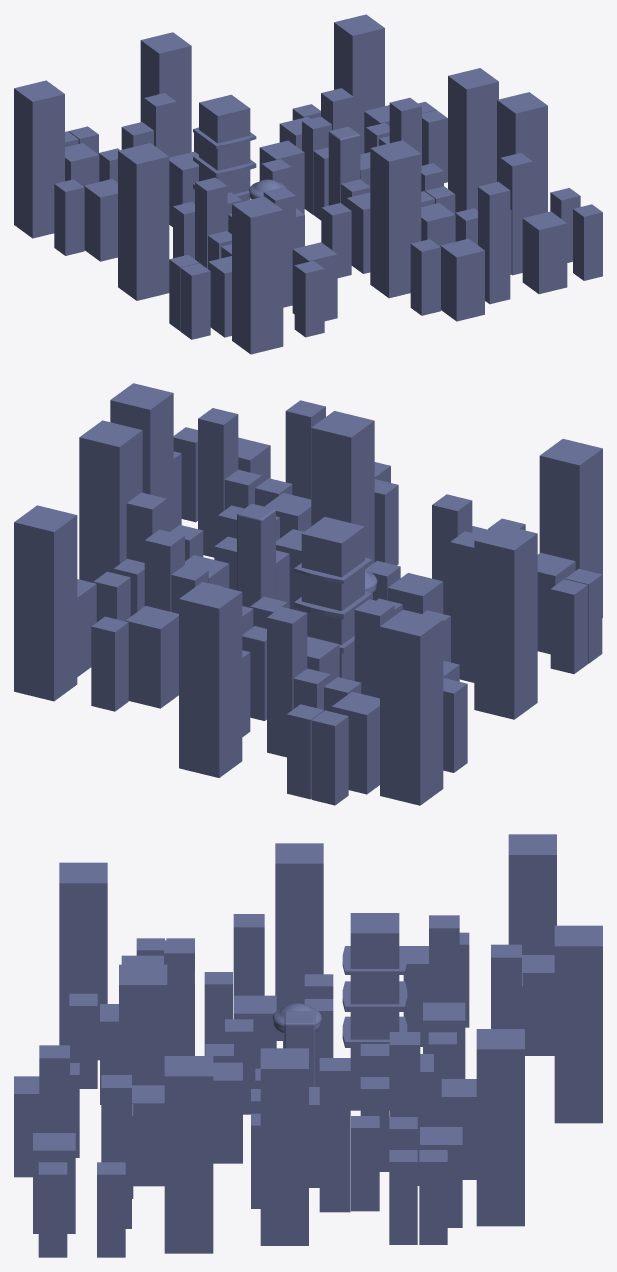
File: Edificios_ambiente.fbx
The picture shows the model from 3 angles, top to bottom: view 1: azimuth 30°, elevation 25°; view 2: azimuth 150°, elevation 25°; view 3: azimuth 270°, elevation 25°; orthographic projection. The views are drawn at different scales.
Parts seen in each view (by area): view 1: Edificio_principal.060; view 2: Edificio_principal.060; view 3: Edificio_principal.060.
Boxes of the visible parts, x1,y1,x2,y2 form: Edificio_principal.060: [14, 14, 602, 354]; Edificio_principal.060: [14, 383, 602, 805]; Edificio_principal.060: [14, 834, 602, 1257].
Bounding box in the file's own units: 14989 × 5049 × 15165.
